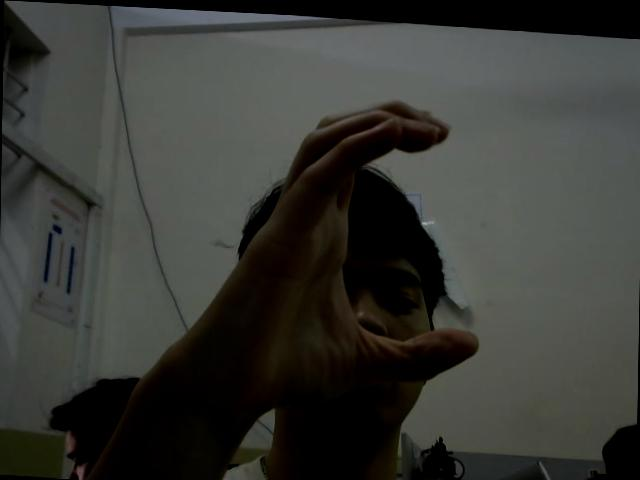C: (200, 82, 485, 420)
